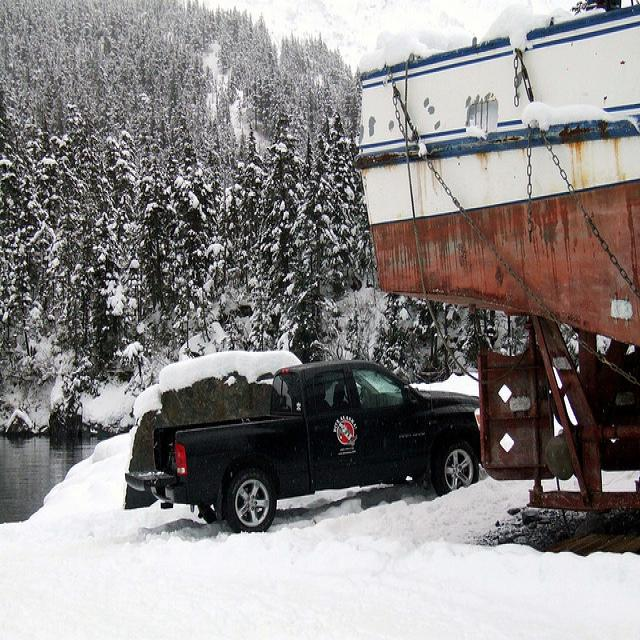Vehicle: (160, 357, 479, 535)
